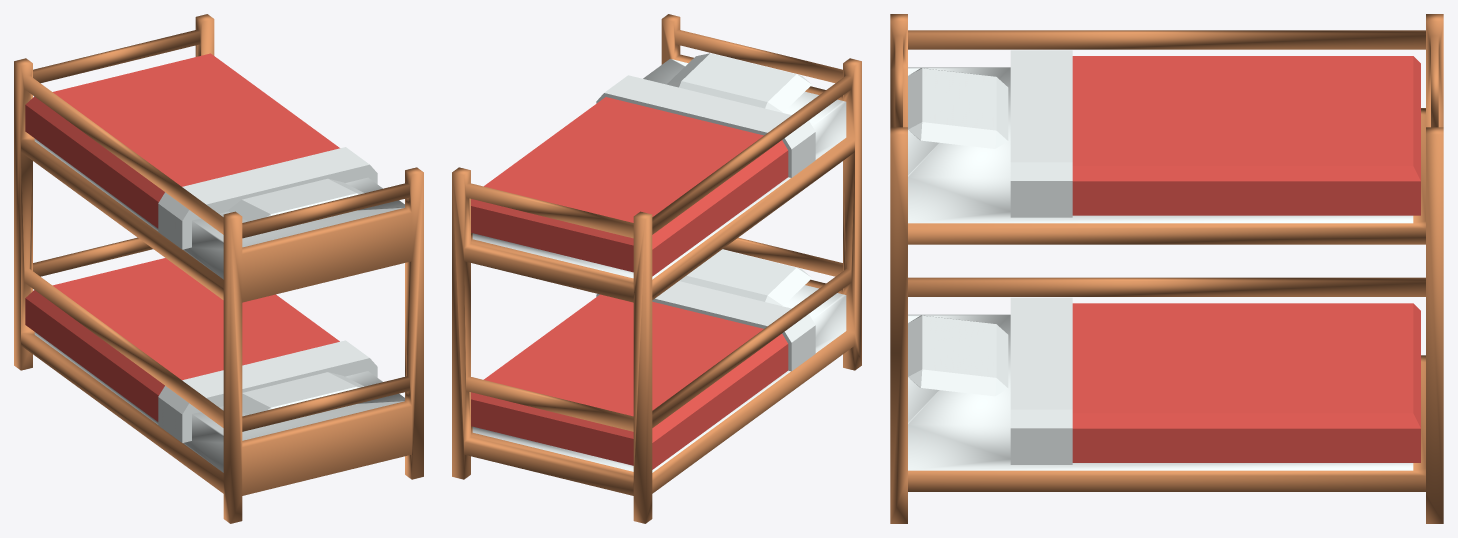
The model's file is Bed_Bunk.glb.
The picture shows the model from 3 angles, left to right: view 1: azimuth 30°, elevation 25°; view 2: azimuth 150°, elevation 25°; view 3: azimuth 270°, elevation 25°; orthographic projection. The views are drawn at different scales.
Visible parts, largest first — view 1: bedBunk; view 2: bedBunk; view 3: bedBunk.
Boxes of the visible parts, <box> form: bedBunk: <box>14,14,423,523</box>; bedBunk: <box>452,14,861,523</box>; bedBunk: <box>890,14,1443,523</box>.
Bounding box in the file's own units: 0.571 × 0.85 × 1.1.
